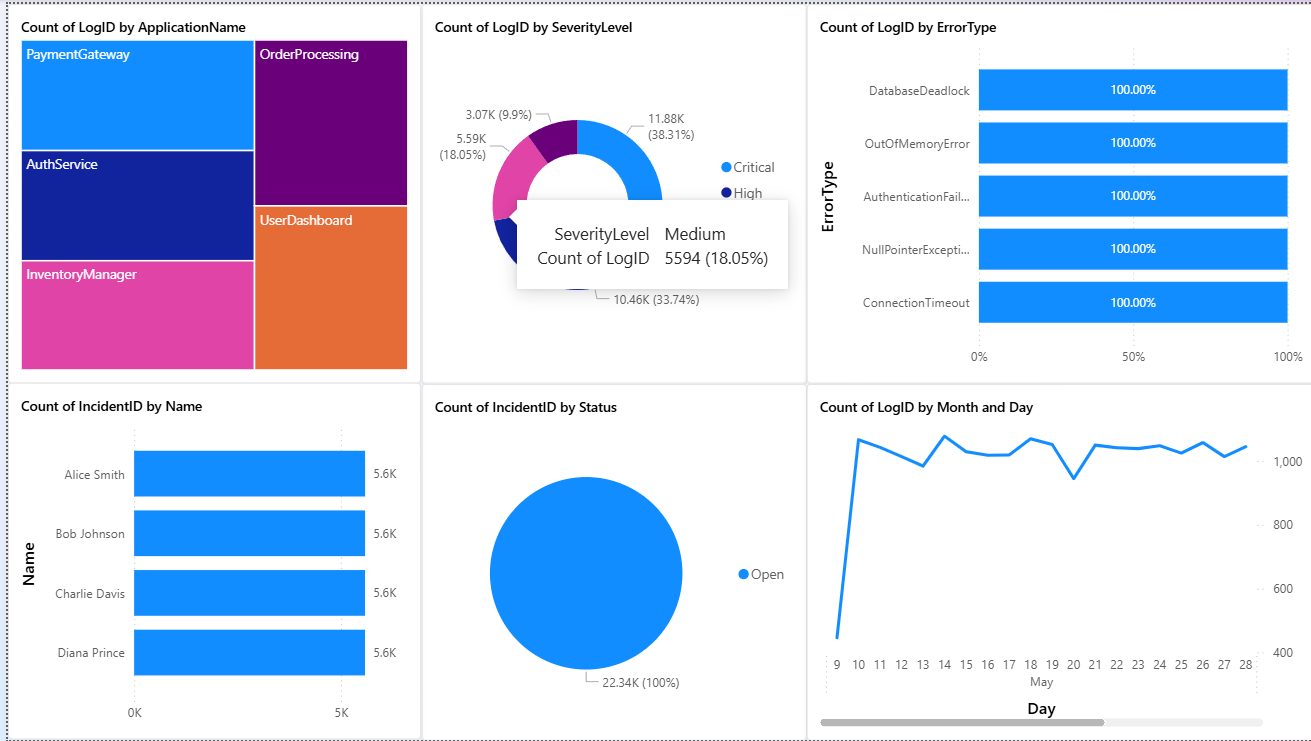

The dashboard page shown, as its layout file describes it:
{"tool":"powerbi","page":{"name":"Page 1","canvas":[1280,720],"ordinal":0},"visuals":[{"type":"donutChart","fields":{"Category":["app_monitoring_db logs.SeverityLevel"],"Y":["CountNonNull(app_monitoring_db logs.LogID)"]},"box":[404.3,0,377.1,371.4],"z":0},{"type":"pieChart","fields":{"Category":["app_monitoring_db incidents.Status"],"Y":["CountNonNull(app_monitoring_db incidents.IncidentID)"]},"box":[404.3,371.4,377.1,348.6],"z":1000},{"type":"hundredPercentStackedBarChart","fields":{"Category":["app_monitoring_db logs.ErrorType"],"Y":["CountNonNull(app_monitoring_db logs.LogID)"]},"box":[781.4,0,498.6,371.4],"z":2000},{"type":"lineChart","fields":{"Category":["app_monitoring_db logs.Timestamp.Variation.Date Hierarchy.Month","app_monitoring_db logs.Timestamp.Variation.Date Hierarchy.Day"],"Y2":["CountNonNull(app_monitoring_db logs.LogID)"]},"box":[781.4,371.4,498.6,348.6],"z":3000},{"type":"treemap","fields":{"Group":["app_monitoring_db logs.ApplicationName"],"Values":["CountNonNull(app_monitoring_db logs.LogID)"]},"box":[0,0,404.3,371.4],"z":3001},{"type":"clusteredBarChart","fields":{"Category":["app_monitoring_db engineers.Name"],"Y":["CountNonNull(app_monitoring_db incidents.IncidentID)"]},"box":[0,371,404,349],"z":3002}]}

Visuals, with their boxes in screenshot pixels (x1, y1, x2, y2), scaled from the page's 1280x720 canvas onto the 1311x741 screenshot:
donutChart - app_monitoring_db logs.SeverityLevel x CountNonNull(app_monitoring_db logs.LogID): [left=414, top=0, right=800, bottom=382]
pieChart - app_monitoring_db incidents.Status x CountNonNull(app_monitoring_db incidents.IncidentID): [left=414, top=382, right=800, bottom=740]
hundredPercentStackedBarChart - app_monitoring_db logs.ErrorType x CountNonNull(app_monitoring_db logs.LogID): [left=800, top=0, right=1310, bottom=382]
lineChart - app_monitoring_db logs.Timestamp.Variation.Date Hierarchy.Month x app_monitoring_db logs.Timestamp.Variation.Date Hierarchy.Day: [left=800, top=382, right=1310, bottom=740]
treemap - app_monitoring_db logs.ApplicationName x CountNonNull(app_monitoring_db logs.LogID): [left=0, top=0, right=414, bottom=382]
clusteredBarChart - app_monitoring_db engineers.Name x CountNonNull(app_monitoring_db incidents.IncidentID): [left=0, top=382, right=414, bottom=740]
